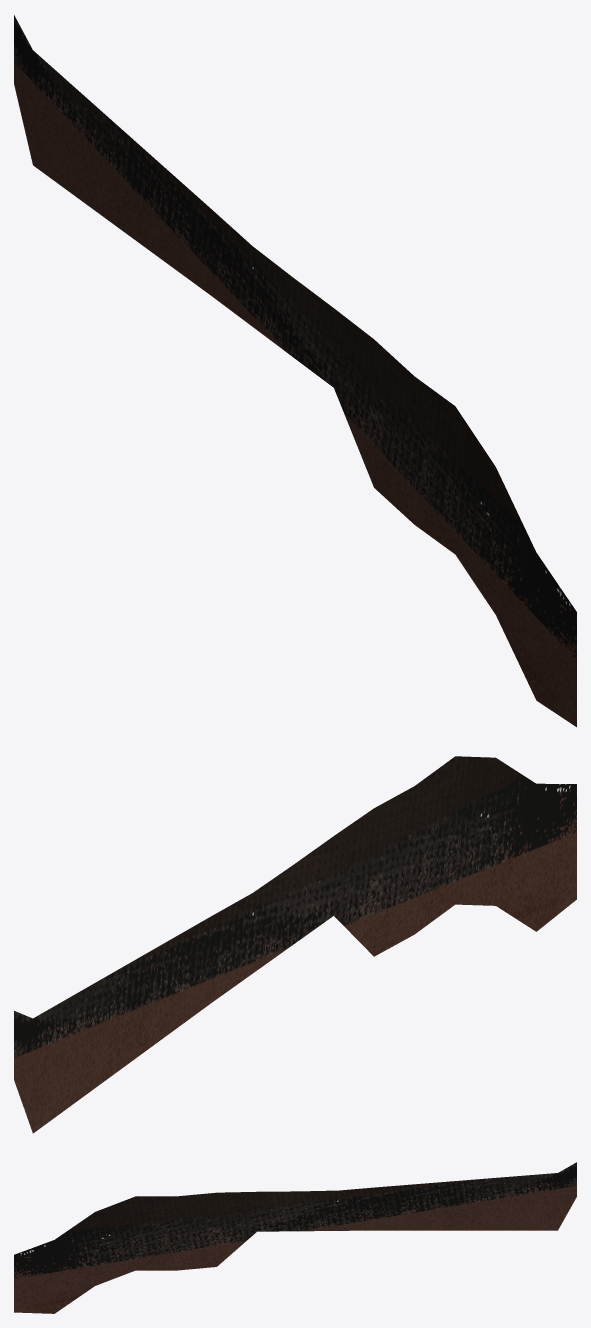
The model's file is HillSidesFBX.fbx.
3 views of the same model, one above another, from view 1: azimuth 30°, elevation 25°; view 2: azimuth 150°, elevation 25°; view 3: azimuth 270°, elevation 25° (orthographic). The views are drawn at different scales.
Parts seen in each view (by area): view 1: BogArenaBase.003; view 2: BogArenaBase.003; view 3: BogArenaBase.003.
Part boxes in pixels (<box>): BogArenaBase.003: <box>14,15,576,727</box>; BogArenaBase.003: <box>14,756,576,1133</box>; BogArenaBase.003: <box>14,1162,576,1313</box>.
Size of the model in its own units: 0 by 12807 by 43030.
